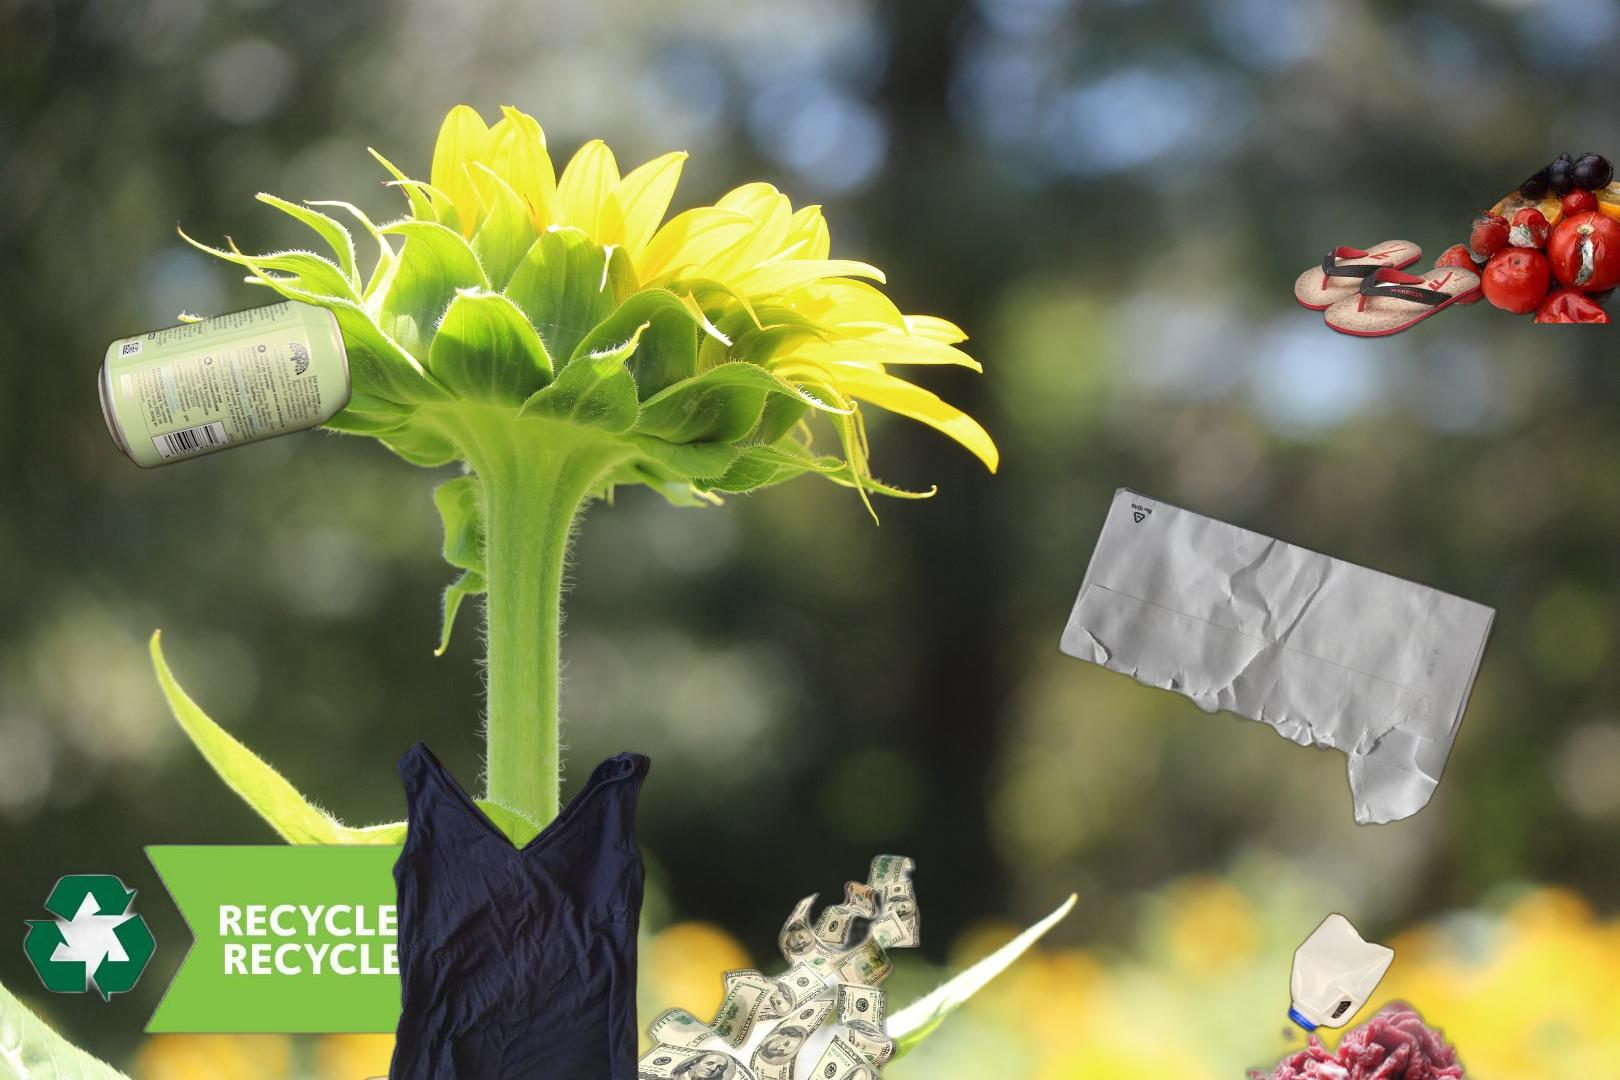biological: (1205, 733, 1620, 1080), (1433, 135, 1620, 323)
clothes: (380, 735, 655, 1080)
metal-cans: (94, 293, 356, 475)
paper: (1053, 483, 1502, 830)
plastic-bottles: (1282, 906, 1399, 1038)
shoes: (1291, 237, 1484, 342)
trashbox-cardboard: (12, 839, 946, 1080)
